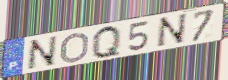5: (127, 20, 151, 52)
7: (191, 8, 216, 43)
N: (25, 34, 60, 72), (155, 12, 189, 50)
O: (58, 32, 91, 64)
Q: (91, 24, 123, 60)
